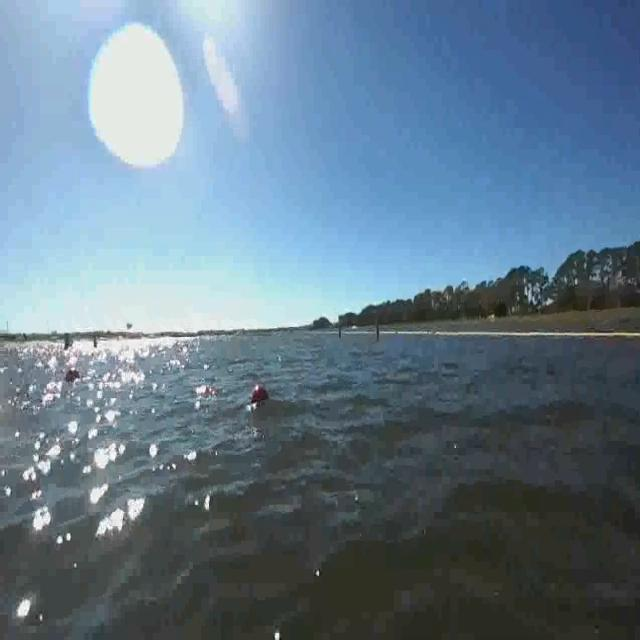red-buoy: (250, 383, 268, 404)
